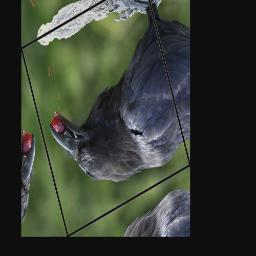Crow: (29, 0, 186, 220)
